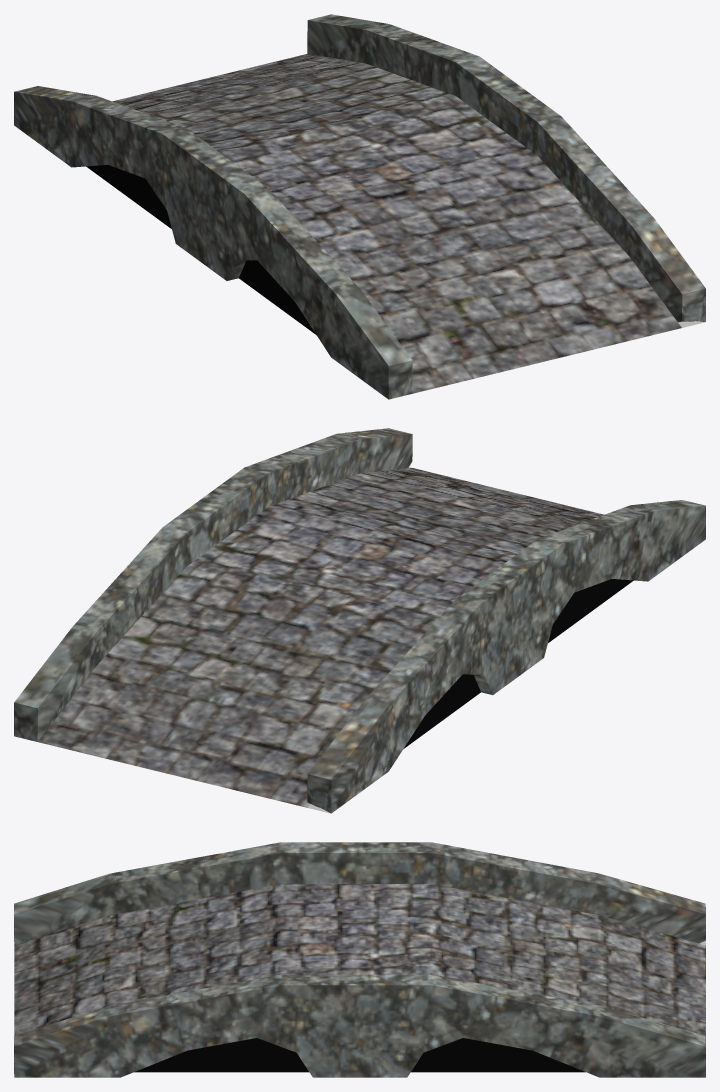
File: cf_ta_bridge.obj
The picture shows the model from 3 angles, top to bottom: view 1: azimuth 30°, elevation 25°; view 2: azimuth 150°, elevation 25°; view 3: azimuth 270°, elevation 25°; orthographic projection. The views are drawn at different scales.
Visible parts, largest first — view 1: bridge_Mesh.001; view 2: bridge_Mesh.001; view 3: bridge_Mesh.001.
Part boxes in pixels (box(x1,y1,x2,y2)): bridge_Mesh.001: box(14, 14, 705, 399); bridge_Mesh.001: box(14, 428, 705, 813); bridge_Mesh.001: box(14, 842, 705, 1077).
Size of the model in its own units: 9.85 by 2.97 by 20.15.
